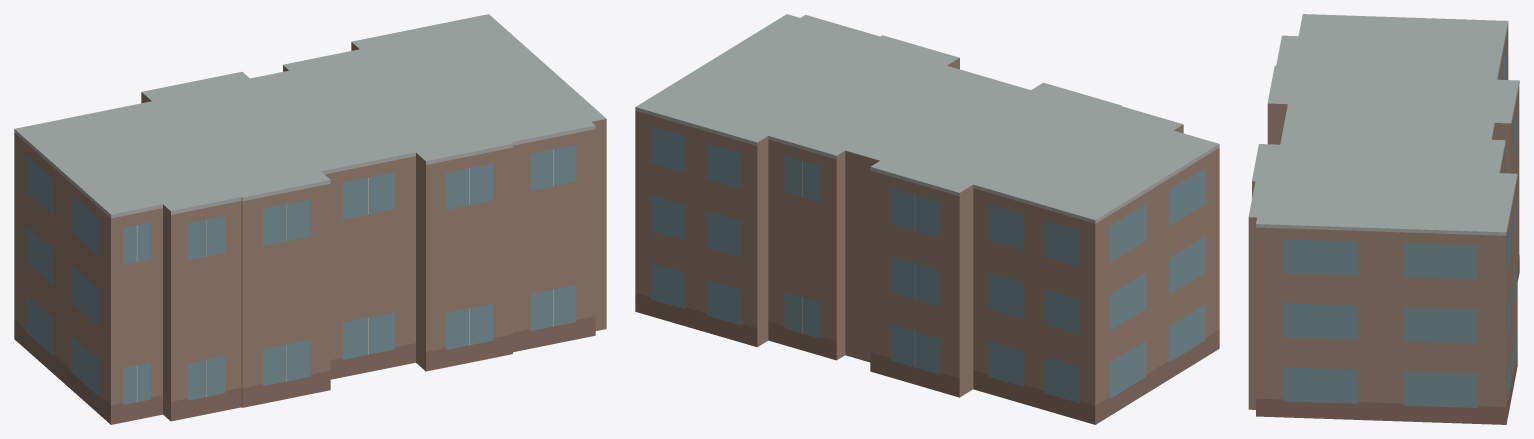
The model's file is survey-upis-32914098.glb.
3 renders of one model, left to right at view 1: azimuth 30°, elevation 25°; view 2: azimuth 150°, elevation 25°; view 3: azimuth 270°, elevation 25°, orthographic. The views are drawn at different scales.
Parts seen in each view (by area): view 1: survey-upis-32914098.tmp; view 2: survey-upis-32914098.tmp; view 3: survey-upis-32914098.tmp.
Boxes of the visible parts, bbox=[...] form: survey-upis-32914098.tmp: bbox=[14, 14, 606, 424]; survey-upis-32914098.tmp: bbox=[635, 14, 1219, 424]; survey-upis-32914098.tmp: bbox=[1248, 14, 1519, 424].
Bounding box in the file's own units: 33.06 × 13.58 × 17.33.
